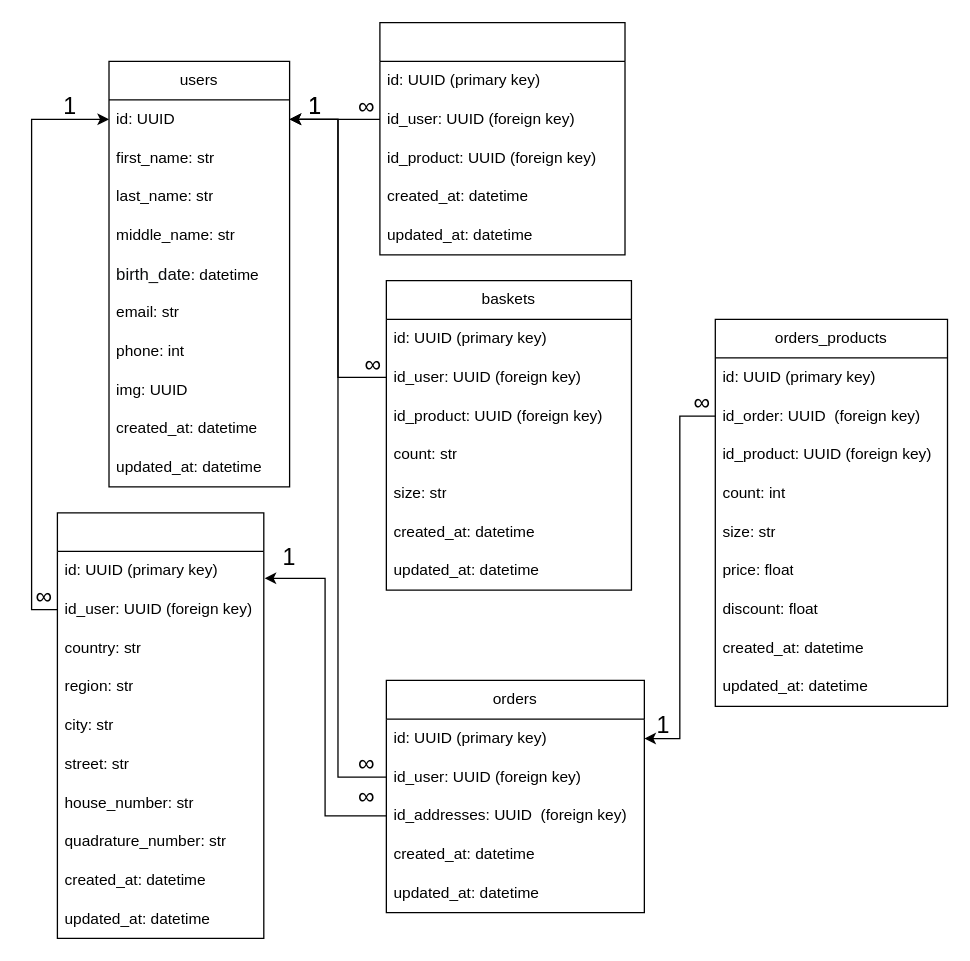
The diagram is 970 pixels wide and 961 high, and some of its shapes have lost their labels. The box of each missing label's shape, as (x1, y1, x2, y2) in pixels:
addresses: (56, 511, 264, 938)
favorites: (379, 21, 625, 255)
